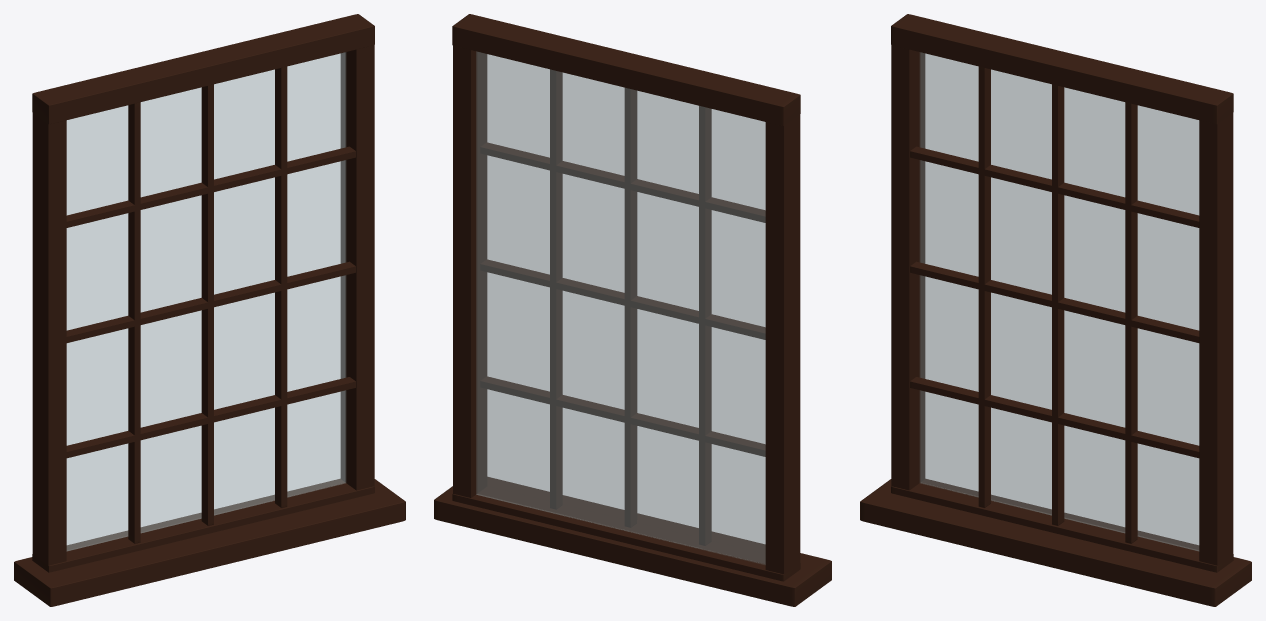
File: Window_Tall_1p7m.fbx
3 views of the same model, side by side, from view 1: azimuth 30°, elevation 25°; view 2: azimuth 150°, elevation 25°; view 3: azimuth 330°, elevation 25° (orthographic).
Visible parts, largest first — view 1: Window glass.001, Window jamb.002, Window jamb.003, Sill.001, Window horizontal frame.003, Window horizontal frame.002, Mullion.003, Mullion.004, Mullion.005, Transom.005, Transom.003, Transom.004; view 2: Window glass.001, Window jamb.002, Window jamb.003, Window horizontal frame.003, Sill.001, Window horizontal frame.002, Mullion.004, Mullion.005, Mullion.003, Transom.004, Transom.003, Transom.005; view 3: Window glass.001, Window jamb.003, Window jamb.002, Sill.001, Window horizontal frame.003, Window horizontal frame.002, Mullion.005, Mullion.004, Mullion.003, Transom.005, Transom.003, Transom.004.
Boxes of the visible parts, x1=… form: Window glass.001: x1=66, y1=52, x2=345, y2=551; Window jamb.002: x1=32, y1=111, x2=66, y2=565; Window jamb.003: x1=340, y1=45, x2=374, y2=490; Sill.001: x1=14, y1=479, x2=405, y2=606; Window horizontal frame.003: x1=32, y1=14, x2=374, y2=124; Window horizontal frame.002: x1=32, y1=479, x2=374, y2=572; Mullion.003: x1=128, y1=102, x2=140, y2=543; Mullion.004: x1=201, y1=84, x2=213, y2=525; Mullion.005: x1=275, y1=66, x2=287, y2=508; Transom.005: x1=66, y1=146, x2=355, y2=227; Transom.003: x1=66, y1=377, x2=355, y2=458; Transom.004: x1=66, y1=261, x2=355, y2=342; Window glass.001: x1=476, y1=51, x2=765, y2=564; Window jamb.002: x1=765, y1=114, x2=800, y2=574; Window jamb.003: x1=453, y1=45, x2=487, y2=497; Window horizontal frame.003: x1=452, y1=14, x2=800, y2=125; Sill.001: x1=434, y1=477, x2=831, y2=606; Window horizontal frame.002: x1=452, y1=486, x2=800, y2=581; Mullion.004: x1=624, y1=88, x2=637, y2=527; Mullion.005: x1=550, y1=69, x2=562, y2=509; Mullion.003: x1=699, y1=106, x2=711, y2=545; Transom.004: x1=480, y1=259, x2=765, y2=339; Transom.003: x1=480, y1=376, x2=765, y2=456; Transom.005: x1=480, y1=142, x2=765, y2=222; Window glass.001: x1=920, y1=52, x2=1199, y2=551; Window jamb.003: x1=1199, y1=110, x2=1233, y2=565; Window jamb.002: x1=891, y1=45, x2=925, y2=490; Sill.001: x1=860, y1=479, x2=1251, y2=606; Window horizontal frame.003: x1=891, y1=14, x2=1233, y2=124; Window horizontal frame.002: x1=891, y1=479, x2=1233, y2=572; Mullion.005: x1=1125, y1=102, x2=1137, y2=543; Mullion.004: x1=1052, y1=84, x2=1064, y2=525; Mullion.003: x1=978, y1=66, x2=990, y2=508; Transom.005: x1=910, y1=146, x2=1199, y2=227; Transom.003: x1=910, y1=377, x2=1199, y2=458; Transom.004: x1=910, y1=261, x2=1199, y2=342.
Bounding box in the file's own units: 1.94 × 2.54 × 0.35.
